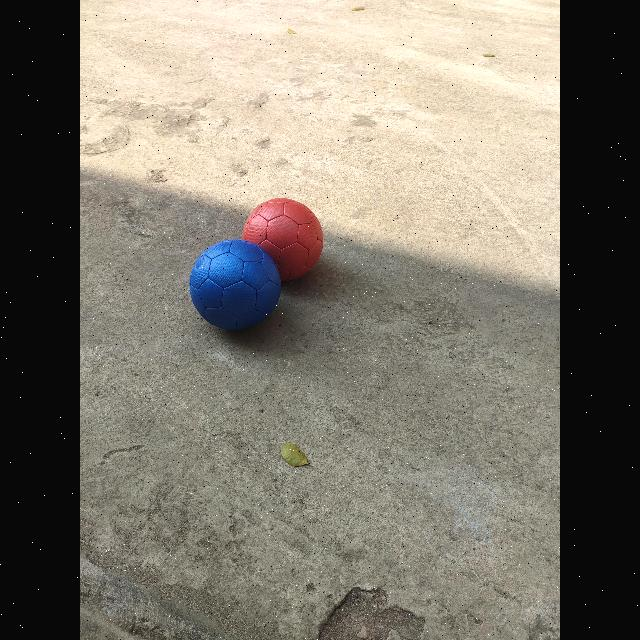B: (189, 239, 282, 335)
R: (242, 198, 323, 281)
